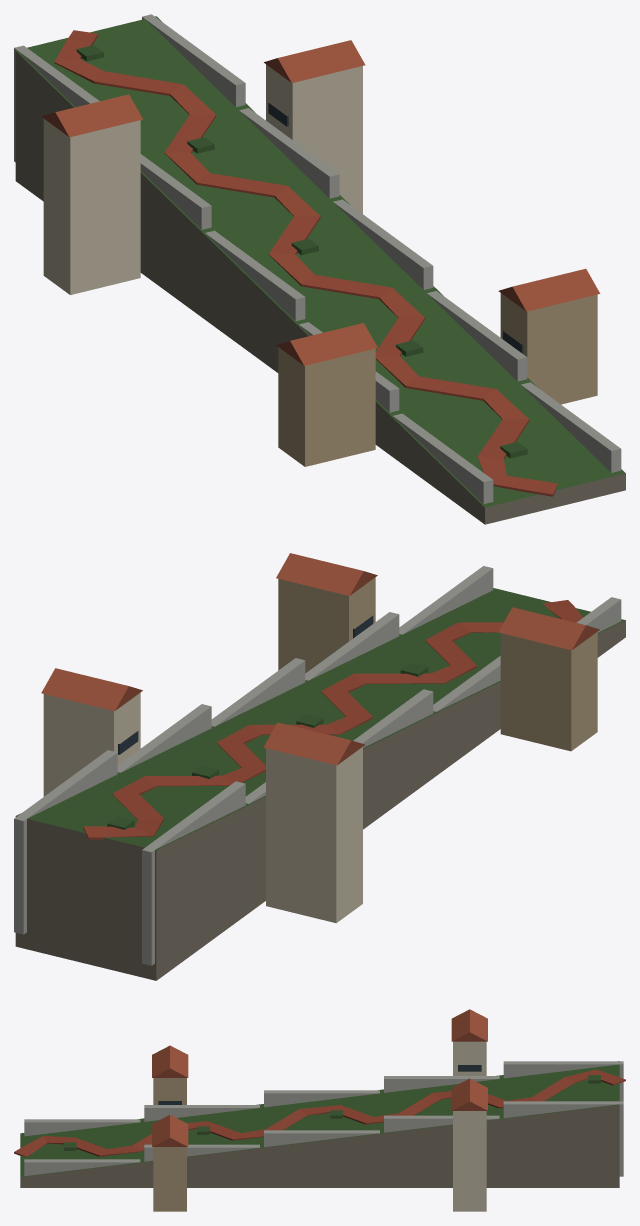
Rendered from mobile-low.glb.
3 views of the same model, one above another, from view 1: azimuth 30°, elevation 25°; view 2: azimuth 150°, elevation 25°; view 3: azimuth 270°, elevation 25° (orthographic). The views are drawn at different scales.
Visible parts, largest first — view 1: lm.lombard-crooked; view 2: lm.lombard-crooked; view 3: lm.lombard-crooked.
Boxes of the visible parts, left/top/right/bottom form: lm.lombard-crooked: left=14, top=14, right=625, bottom=524; lm.lombard-crooked: left=14, top=553, right=625, bottom=980; lm.lombard-crooked: left=14, top=1009, right=625, bottom=1211.
Bounding box in the file's own units: 54.6 × 30.6 × 153.
